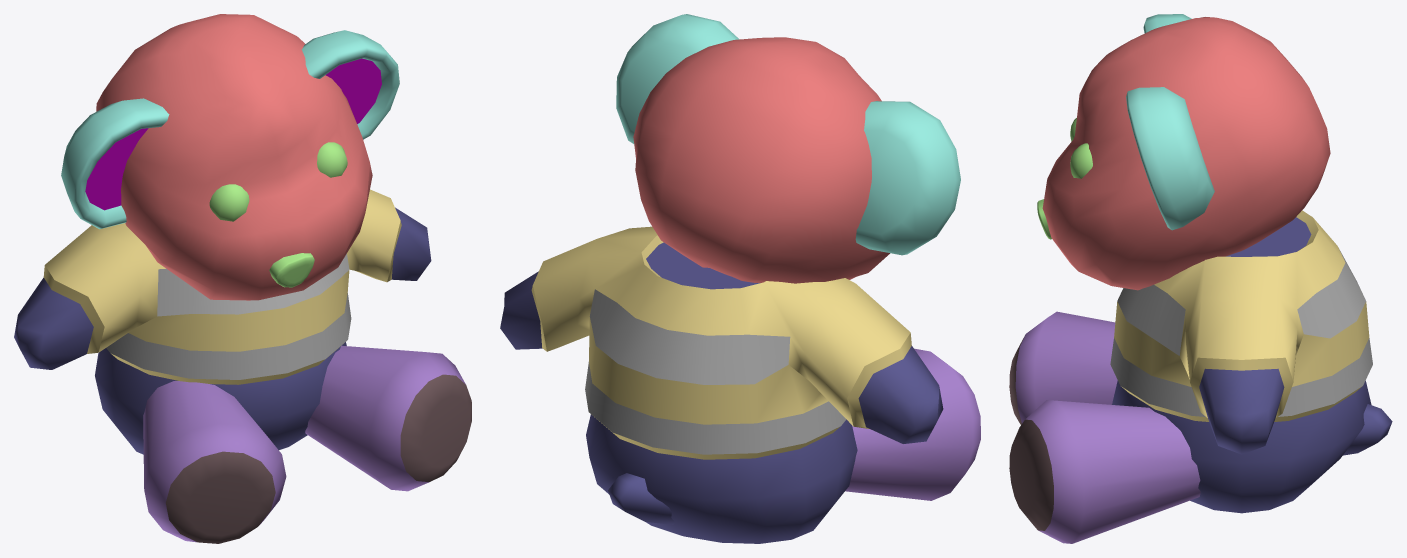
File: XiaoWai.fbx
3 views of the same model, side by side, from view 1: azimuth 30°, elevation 25°; view 2: azimuth 150°, elevation 25°; view 3: azimuth 270°, elevation 25° (orthographic). The views are drawn at different scales.
Parts seen in each view (by area): view 1: Head, Legs, Shirt, Body, InsideLeg, Stripes, Ears, InsideEar, Face; view 2: Head, Shirt, Body, Ears, Stripes, Legs; view 3: Head, Legs, Shirt, Body, Stripes, Ears, InsideLeg, Face.
Part boxes in pixels (x1,y1,x2,y2): Head: (96,14,372,300); Legs: (143,345,465,542); Shirt: (43,189,401,384); Body: (14,207,431,454); InsideLeg: (166,374,471,543); Stripes: (106,253,351,379); Ears: (61,30,399,229); InsideEar: (85,58,381,210); Face: (209,142,347,287); Head: (633,37,889,283); Shirt: (531,226,911,459); Body: (500,242,943,543); Ears: (616,14,960,255); Stripes: (585,289,846,454); Legs: (845,348,980,500); Head: (1042,17,1330,290); Legs: (1015,311,1200,543); Shirt: (1114,210,1369,421); Body: (1112,217,1392,513); Stripes: (1110,249,1372,416); Ears: (1126,14,1214,230); InsideLeg: (1009,338,1053,530); Face: (1037,118,1092,239).
Size of the model in its own units: 20.68 by 21.94 by 16.58.
